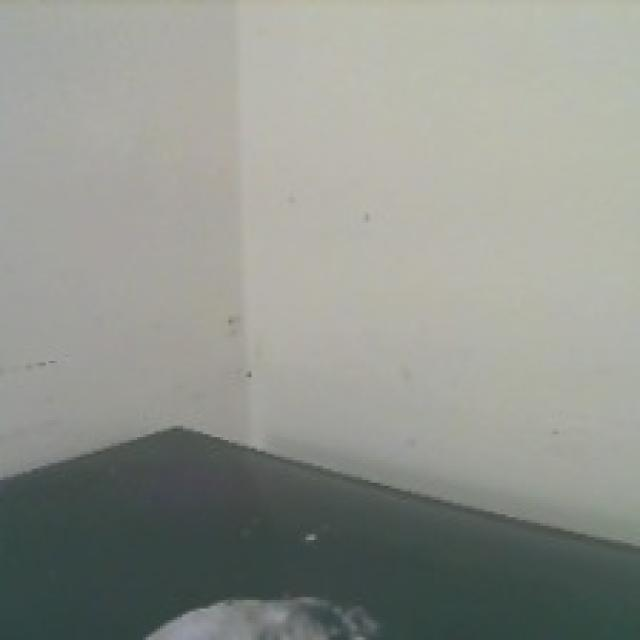Asteroid: (131, 597, 380, 640)
